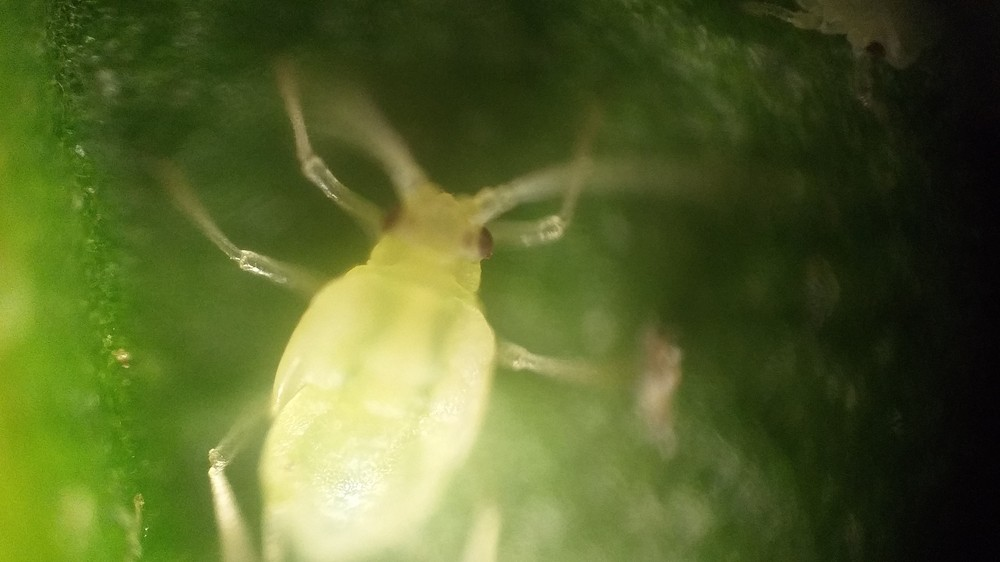Pulgon: (171, 48, 669, 562)
